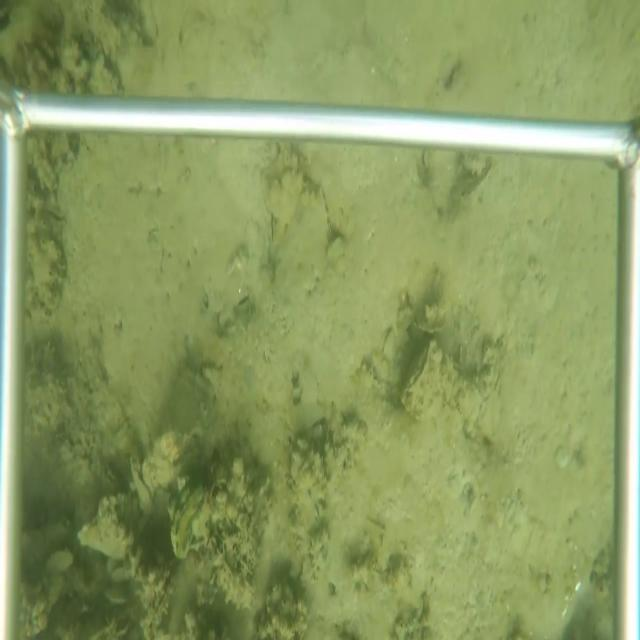Oyster-Closed: (167, 480, 205, 562), (402, 337, 436, 399), (78, 521, 131, 560)
Oyster-Indeterminate: (263, 167, 333, 300), (129, 464, 155, 519)
